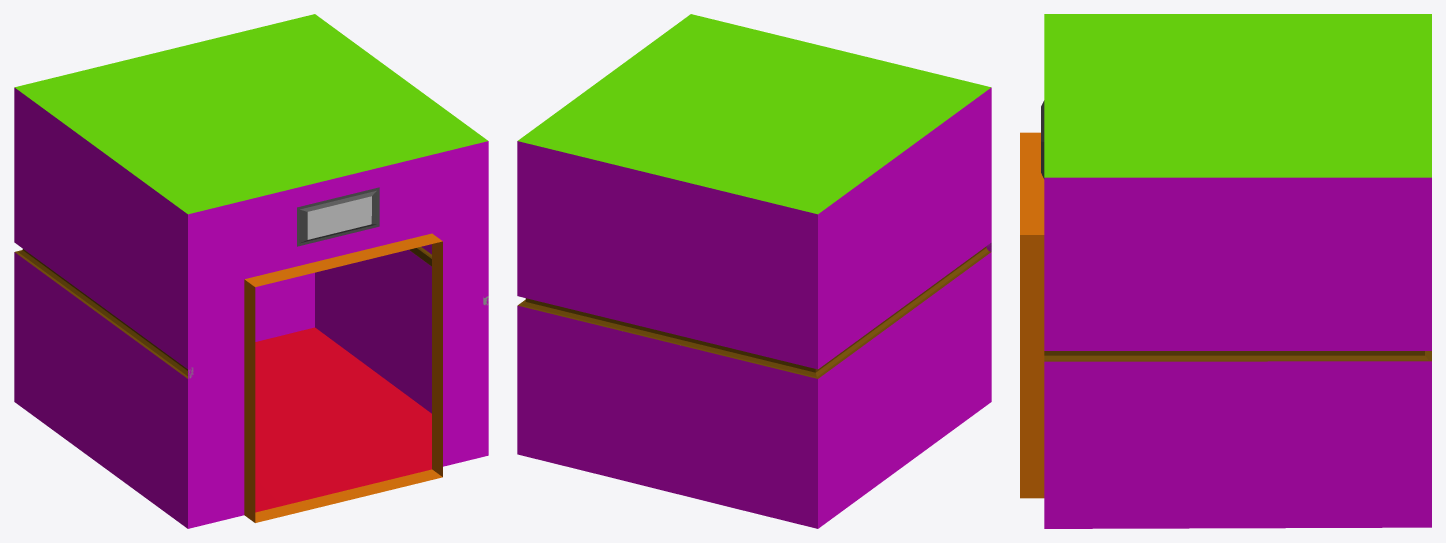
The model's file is Lift_V1.0.fbx.
The picture shows the model from 3 angles, left to right: view 1: azimuth 30°, elevation 25°; view 2: azimuth 150°, elevation 25°; view 3: azimuth 270°, elevation 25°; orthographic projection. The views are drawn at different scales.
Parts seen in each view (by area): view 1: polySurface115; view 2: polySurface115; view 3: polySurface115.
Part boxes in pixels (x1,y1,x2,y2): polySurface115: (14, 14, 488, 528); polySurface115: (517, 14, 991, 528); polySurface115: (1020, 14, 1431, 528).
Bounding box in the file's own units: 400 × 400 × 425.
